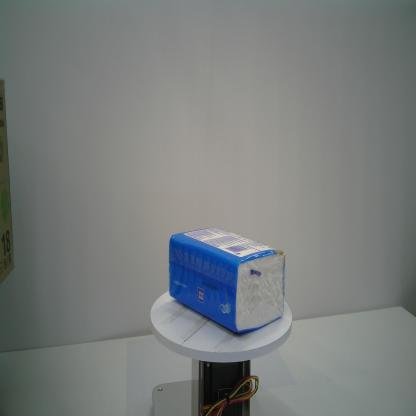Tissue: (168, 225, 287, 335)
